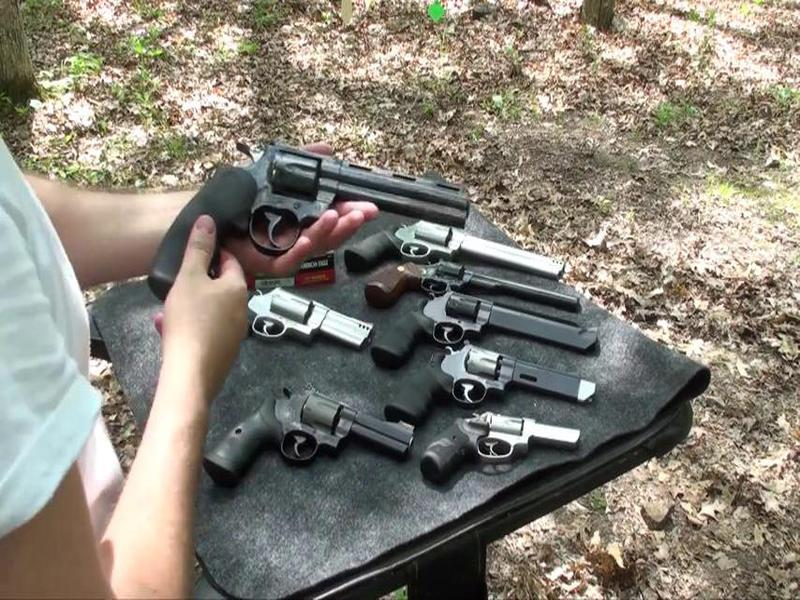Revolver: (175, 125, 472, 325)
